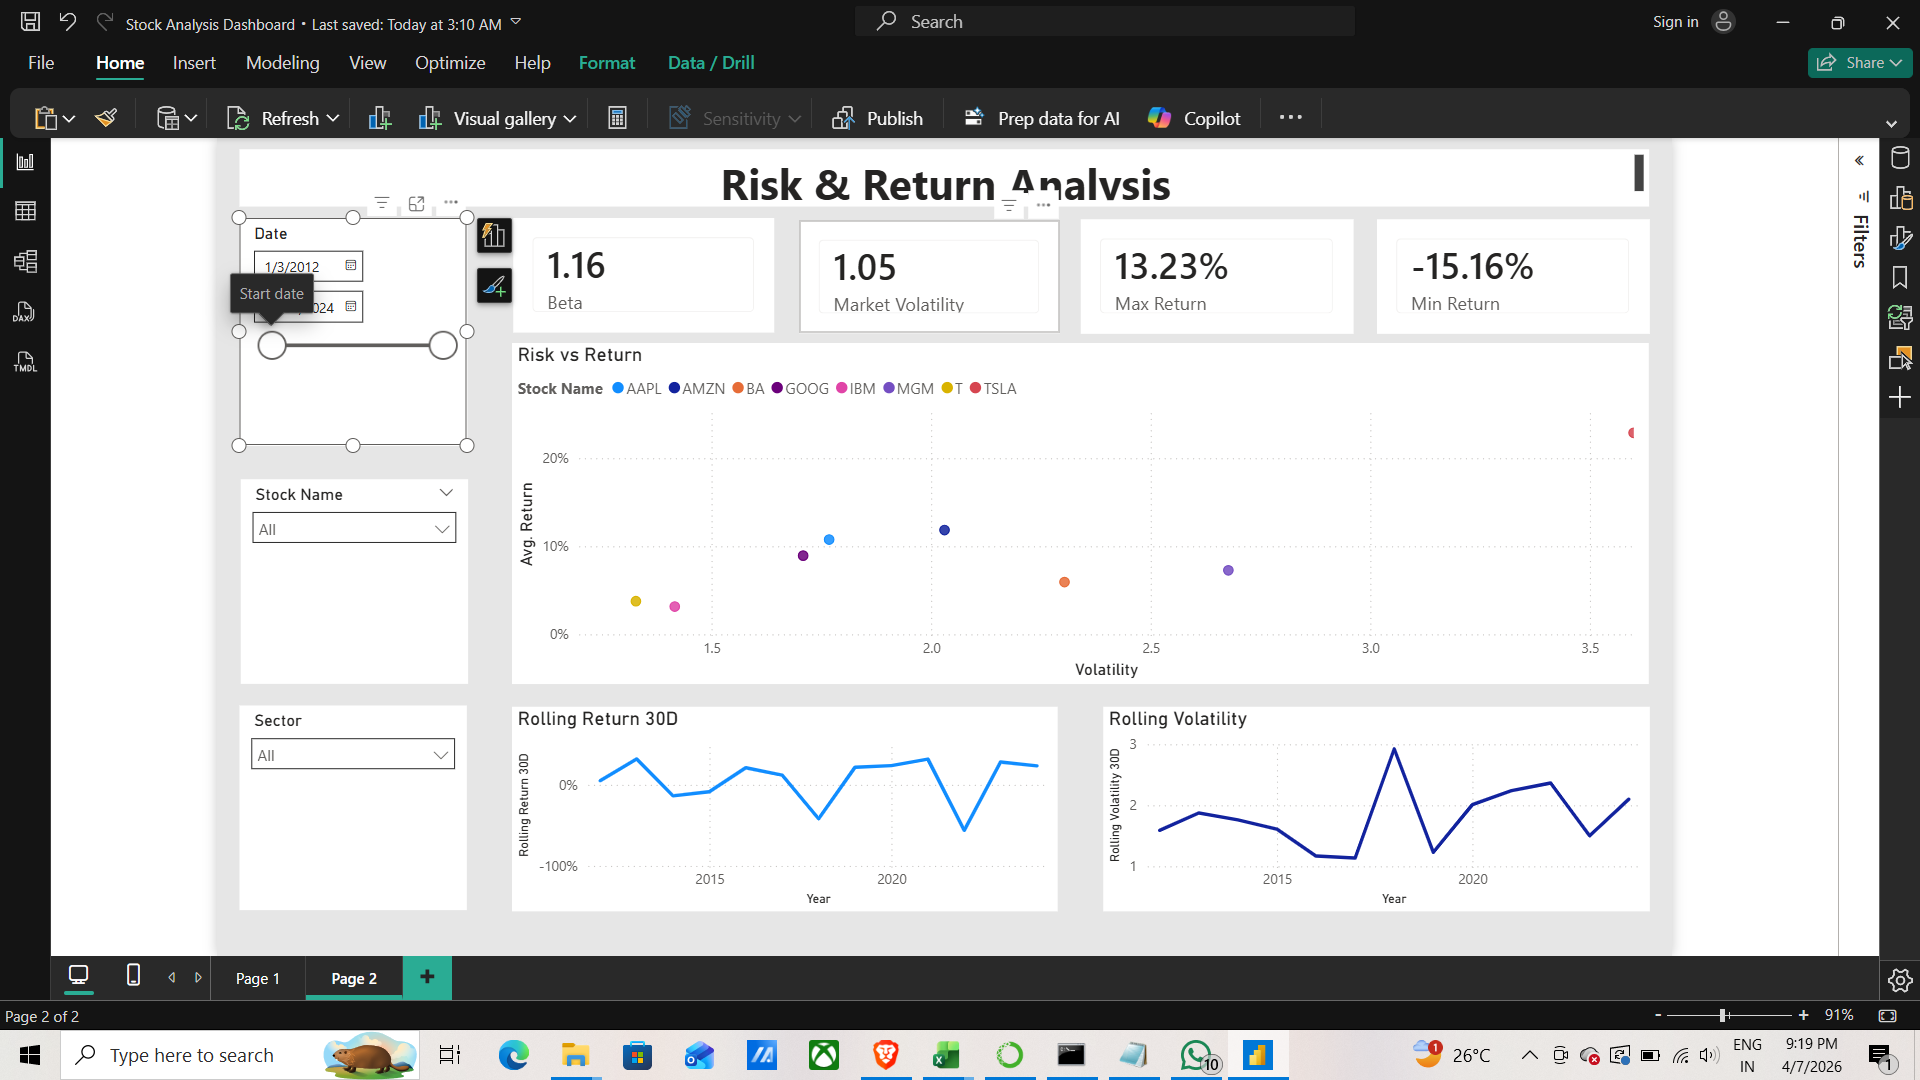

What the dashboard file says about the page in this screenshot:
{"tool":"powerbi","page":{"name":"Page 2","canvas":[1280,720],"ordinal":1},"visuals":[{"type":"textbox","box":[20,10,1240,50],"z":0},{"type":"slicer","fields":{"Values":["Dim_Date.Date"]},"box":[20,70,200,200],"z":1000},{"type":"slicer","fields":{"Values":["Dim_Stock.Stock_Name"]},"box":[20.6,300.2,199.7,180.4],"z":2000},{"type":"slicer","fields":{"Values":["Dim_Stock.Sector"]},"box":[19.4,498.7,199.7,180.4],"z":3000},{"type":"cardVisual","fields":{"Data":["Measure.Beta"]},"box":[260.1,69.9,229.4,100.6],"z":4000},{"type":"cardVisual","fields":{"Data":["Measure.Market Volatility"]},"box":[512,72.6,228.8,99.3],"z":5000},{"type":"cardVisual","fields":{"Data":["Measure.Max Return"]},"box":[760.2,71.4,239.7,100.5],"z":6000},{"type":"cardVisual","fields":{"Data":["Measure.Min Return"]},"box":[1020.4,71.4,239.7,100.5],"z":7000},{"type":"scatterChart","title":"Risk vs Return","fields":{"X":["Measure.Volatility"],"Y":["Measure.Avg Daily Return"],"Series":["Dim_Stock.Stock_Name"]},"box":[260,180,1000,300],"z":8000},{"type":"lineChart","title":"Rolling Return 30D","fields":{"Y":["Measure.Rolling Return 30D"],"Category":["Dim_Date.Date.Variation.Date Hierarchy.Year","Dim_Date.Date.Variation.Date Hierarchy.Quarter","Dim_Date.Date.Variation.Date Hierarchy.Month","Dim_Date.Date.Variation.Date Hierarchy.Day"]},"box":[260,500,480,180],"z":9000},{"type":"lineChart","title":"Rolling Volatility","fields":{"Y":["Measure.Rolling Volatility 30D"],"Category":["Dim_Date.Date.Variation.Date Hierarchy.Year","Dim_Date.Date.Variation.Date Hierarchy.Quarter","Dim_Date.Date.Variation.Date Hierarchy.Month","Dim_Date.Date.Variation.Date Hierarchy.Day"]},"box":[780,500.6,480.4,180.3],"z":10000}]}

Visuals, with their boxes on the page's 1280x720 design canvas (x1, y1, x2, y2). These are canvas units, not pixel positions in the 1920x1080 screenshot, which may show the page scaled, cropped or inside an application window:
textbox: (20, 10, 1260, 60)
slicer - Dim_Date.Date: (20, 70, 220, 270)
slicer - Dim_Stock.Stock_Name: (21, 300, 220, 481)
slicer - Dim_Stock.Sector: (19, 499, 219, 679)
cardVisual - Measure.Beta: (260, 70, 490, 170)
cardVisual - Measure.Market Volatility: (512, 73, 741, 172)
cardVisual - Measure.Max Return: (760, 71, 1000, 172)
cardVisual - Measure.Min Return: (1020, 71, 1260, 172)
"Risk vs Return" scatterChart: (260, 180, 1260, 480)
"Rolling Return 30D" lineChart: (260, 500, 740, 680)
"Rolling Volatility" lineChart: (780, 501, 1260, 681)
